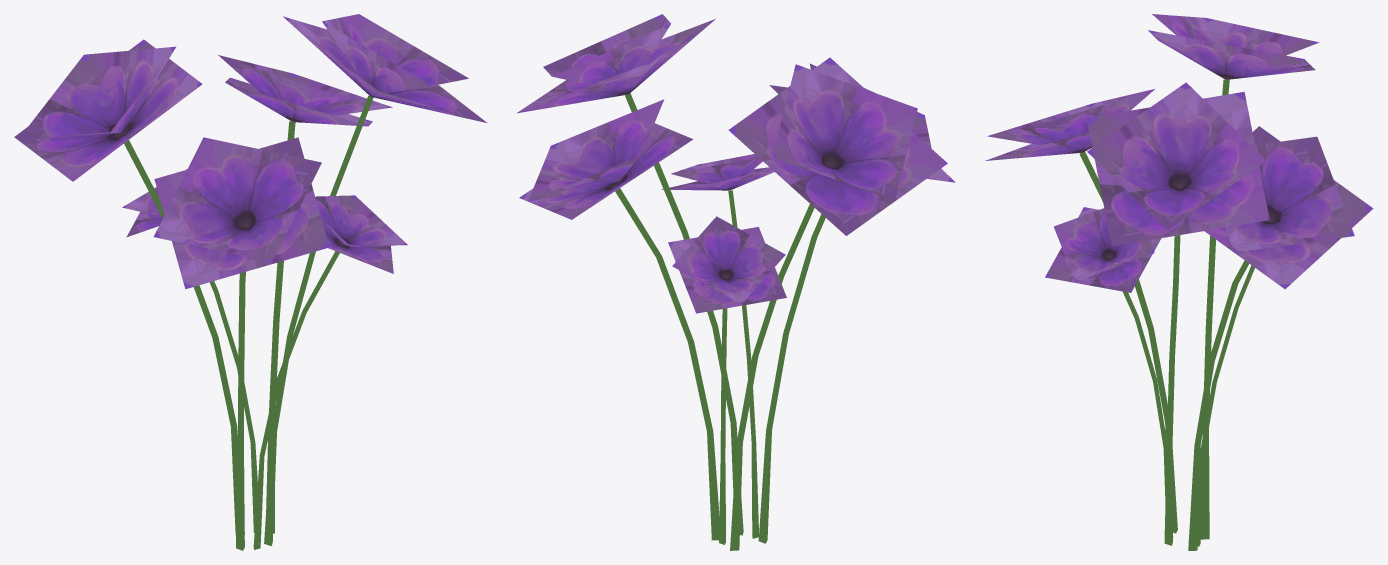
File: SM_Flower_02_02.fbx
3 views of the same model, side by side, from view 1: azimuth 30°, elevation 25°; view 2: azimuth 150°, elevation 25°; view 3: azimuth 270°, elevation 25° (orthographic). The views are drawn at different scales.
Visible parts, largest first — view 1: SM_Flower_02_02_LOD0; view 2: SM_Flower_02_02_LOD0; view 3: SM_Flower_02_02_LOD0.
Boxes of the visible parts, x1,y1,x2,y2 form: SM_Flower_02_02_LOD0: [14, 14, 486, 550]; SM_Flower_02_02_LOD0: [517, 14, 955, 550]; SM_Flower_02_02_LOD0: [985, 14, 1373, 550].
Size of what is drawn, in the model's own units: 60.47 by 72.23 by 51.87.
